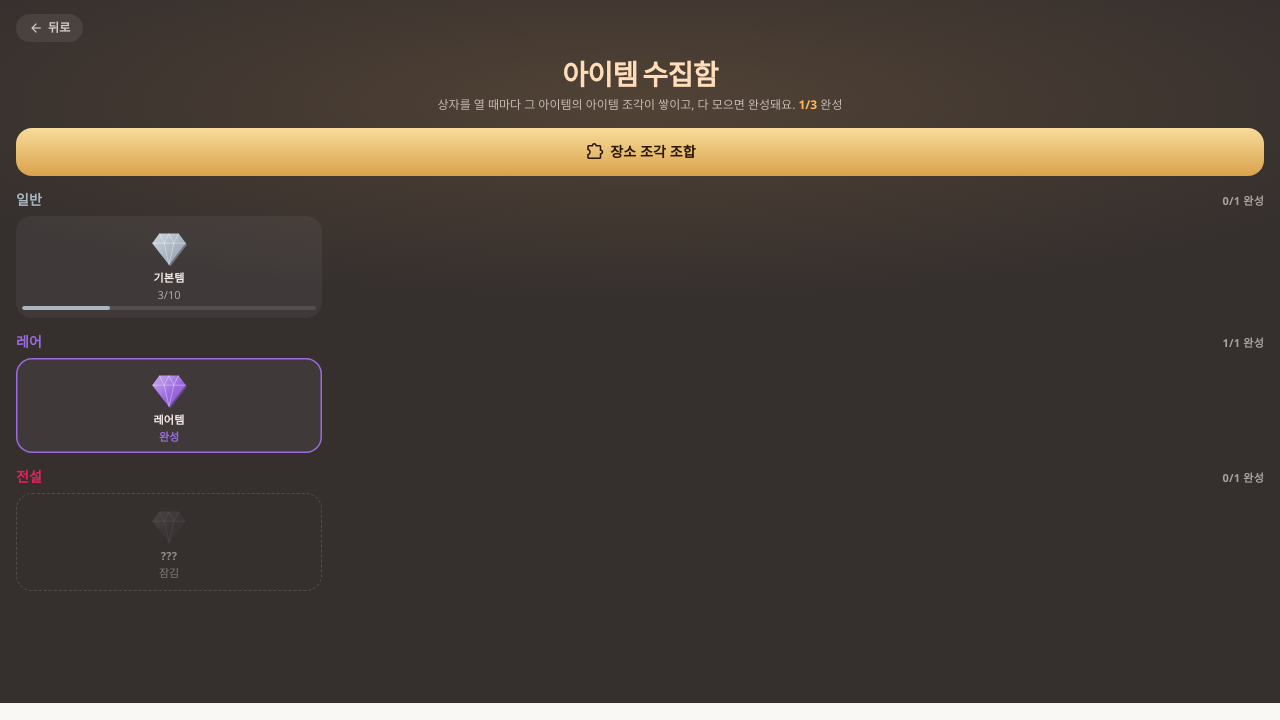
Test: DexPage › opens a detail sheet for a non-locked entry and closes it on 닫기
What coordinates should you click on to do the following:
click the text "레어템"
I would click on:
 (169, 419)
Its box is [154,412,184,426].
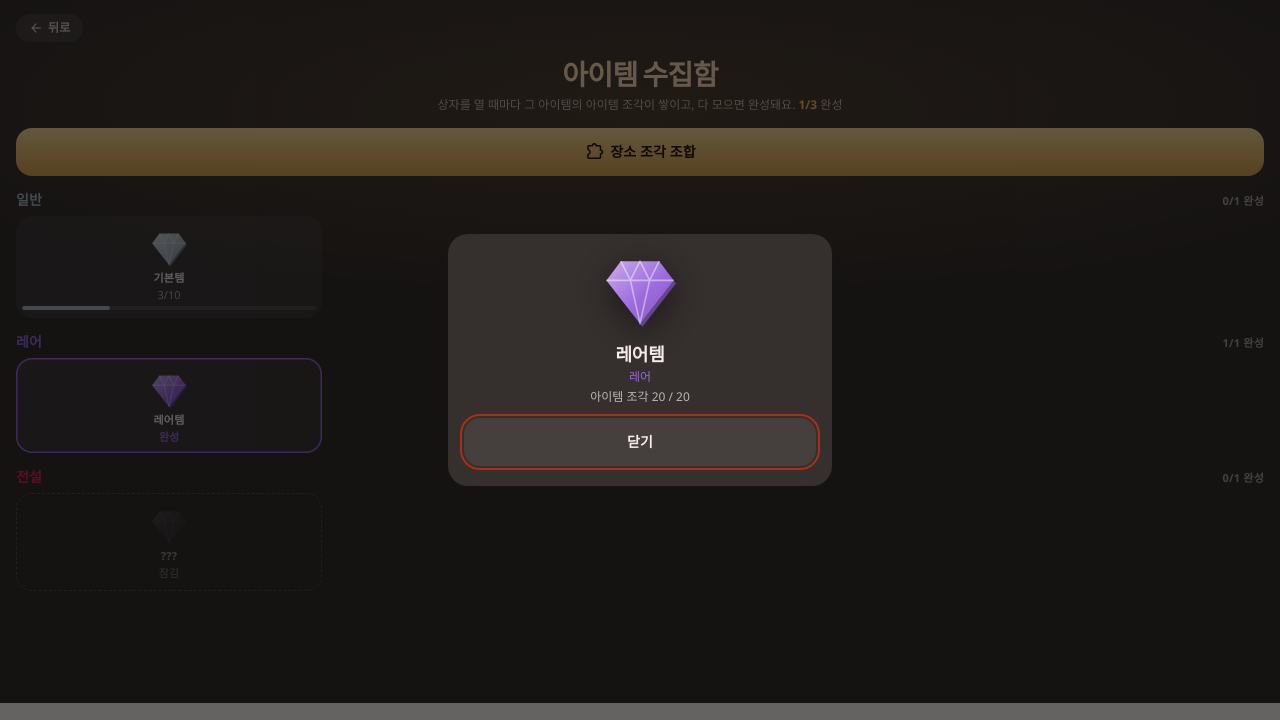
Now the text "아이템 조각 20 / 20" is shown, box [590,388,690,405]
What coordinates should you click on to do the following:
click the button "닫기"
I would click on:
 (640, 442)
Its box is [464,418,816,466].
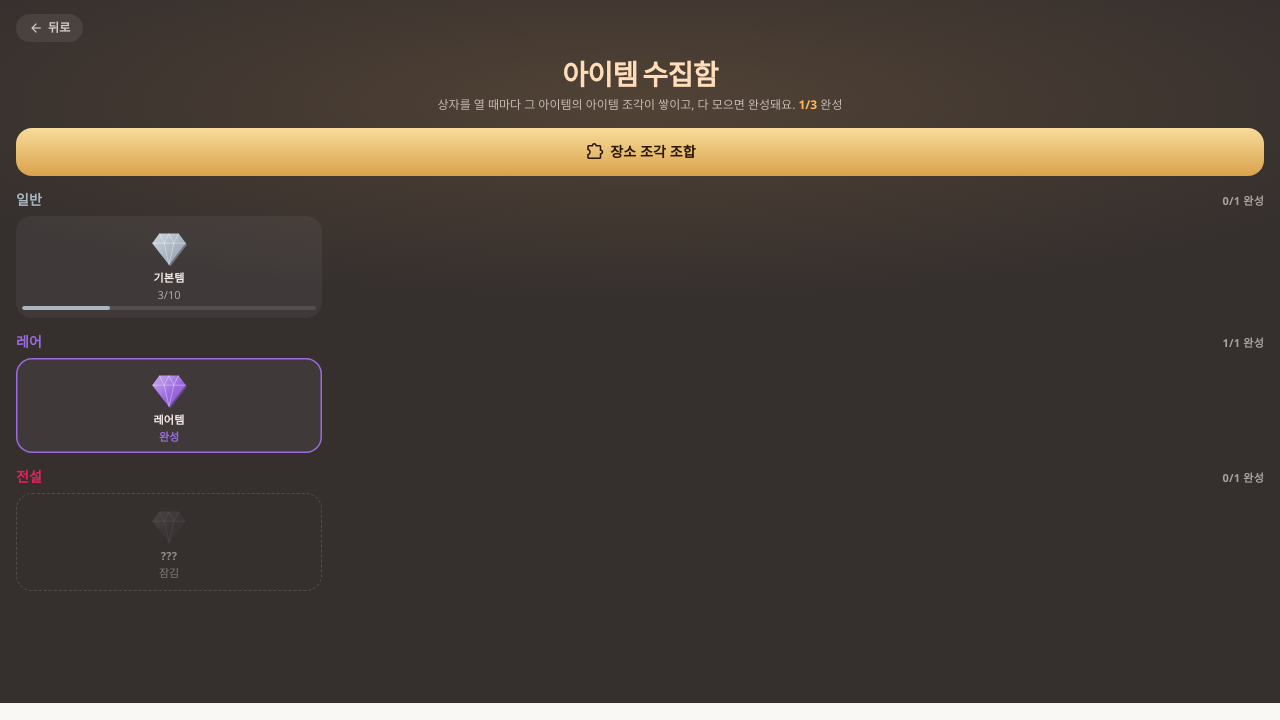
Now the text "아이템 조각 20 / 20" is gone
